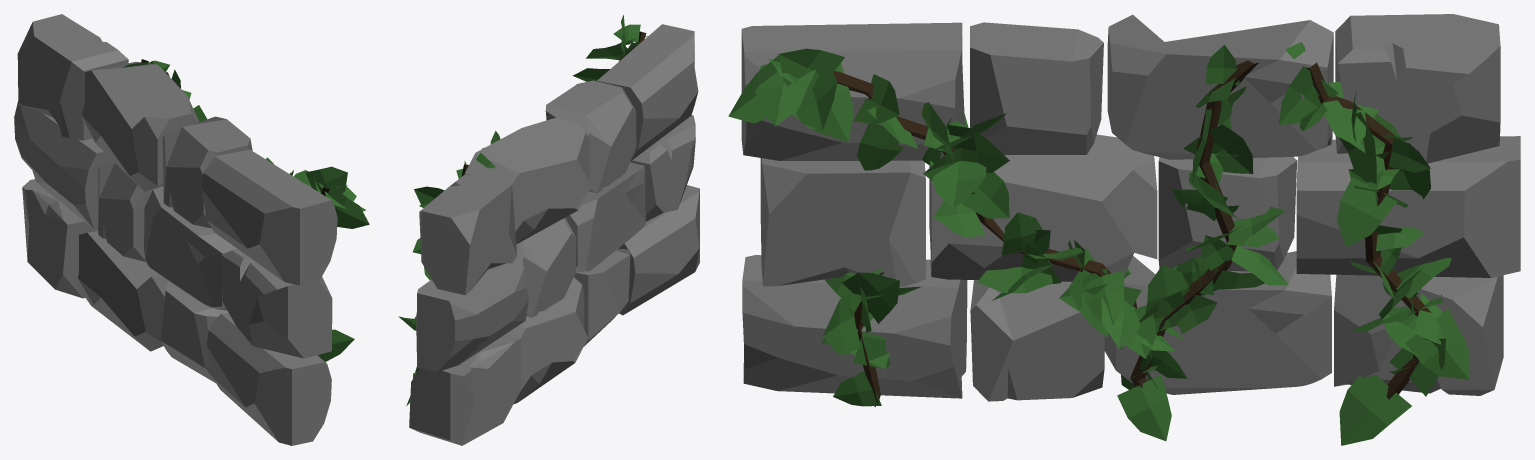
Rendered from Climbing.fbx.
3 renders of one model, left to right at view 1: azimuth 30°, elevation 25°; view 2: azimuth 150°, elevation 25°; view 3: azimuth 270°, elevation 25°, orthographic. The views are drawn at different scales.
Visible parts, largest first — view 1: Cube.025; view 2: Cube.025; view 3: Cube.025.
Part boxes in pixels (box(x1,y1,x2,y2)): Cube.025: box(14, 14, 369, 445); Cube.025: box(398, 15, 699, 445); Cube.025: box(728, 14, 1520, 445).
Bounding box in the file's own units: 50.39 × 114 × 203.
